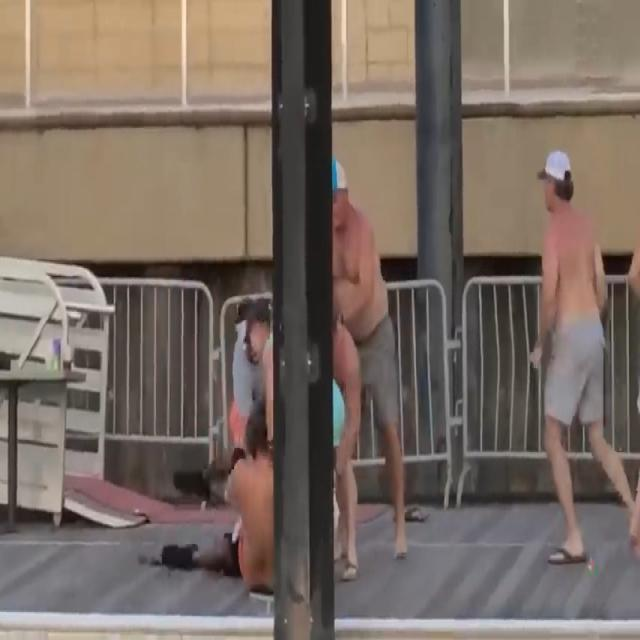fight: (157, 154, 417, 614)
non-fight: (513, 128, 640, 578)
